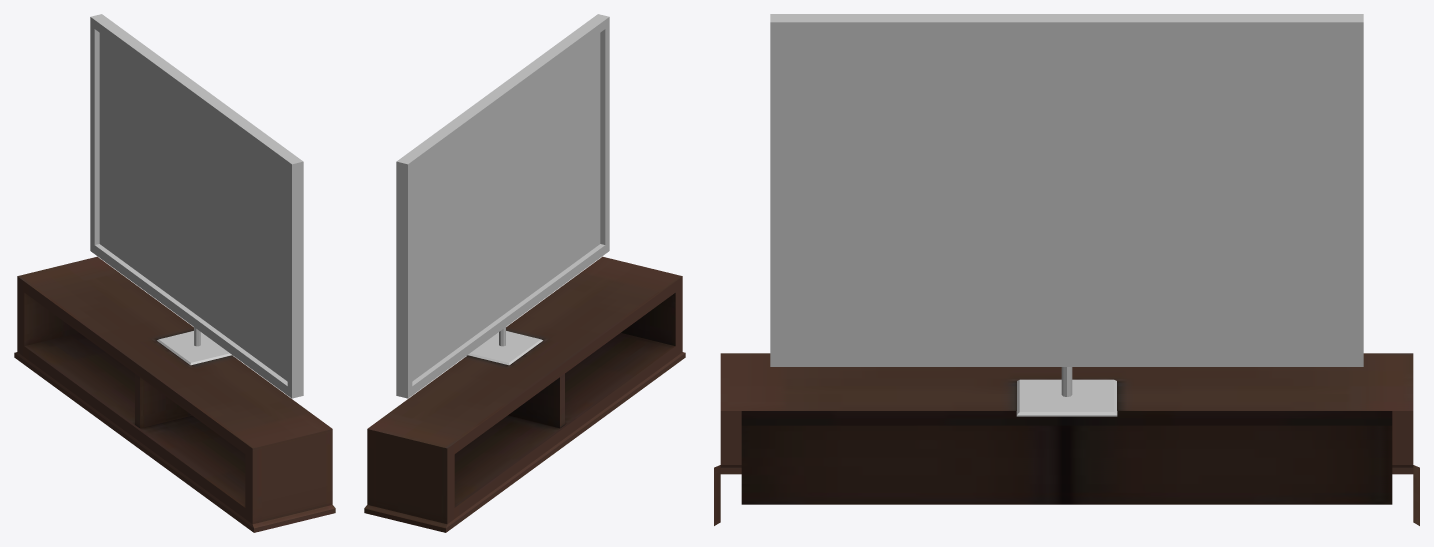
File: Meuble_Tele.fbx
3 views of the same model, side by side, from view 1: azimuth 30°, elevation 25°; view 2: azimuth 150°, elevation 25°; view 3: azimuth 270°, elevation 25° (orthographic). The views are drawn at different scales.
Parts seen in each view (by area): view 1: Cube.001; view 2: Cube.001; view 3: Cube.001.
Boxes of the visible parts, x1,y1,x2,y2 form: Cube.001: (14, 14, 335, 532); Cube.001: (364, 14, 685, 532); Cube.001: (714, 14, 1419, 525).
Bounding box in the file's own units: 23.77 × 88.85 × 113.
